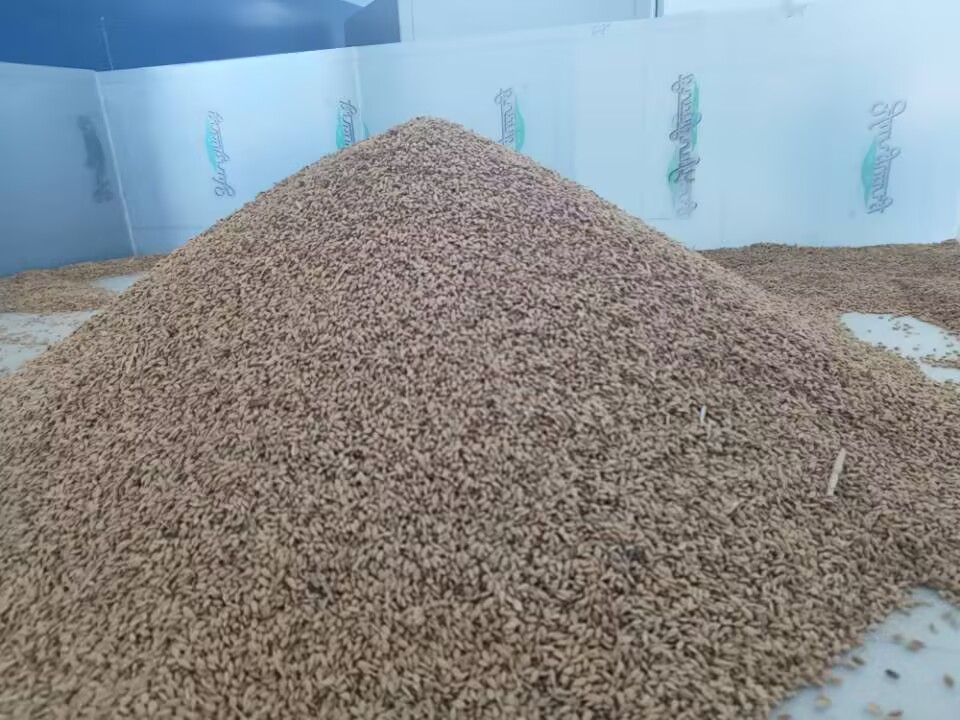Grain: (63, 105, 755, 623)
